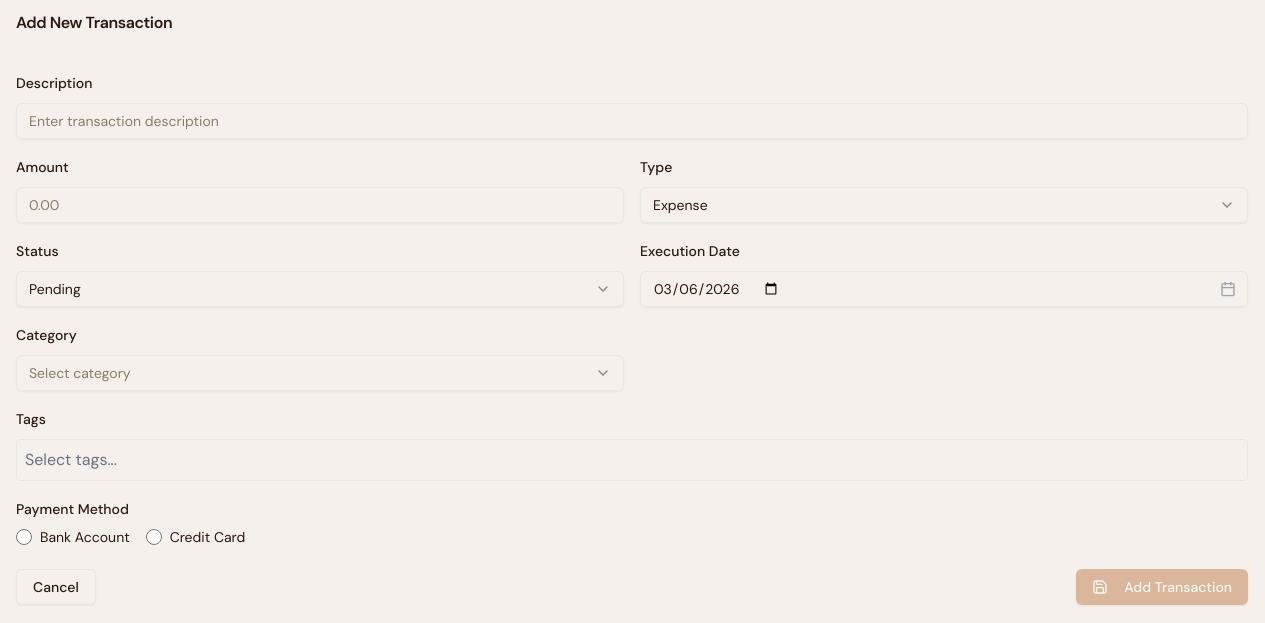
Scenario: AddTransactionForm › Loading States › should disable save button during submission
This screenshot has width=1265, height=623.
Fill in required fields
Type "Test Transaction" into the field labelled "Description" at (632, 121), box top-left (16, 103), bottom-right (1248, 139)
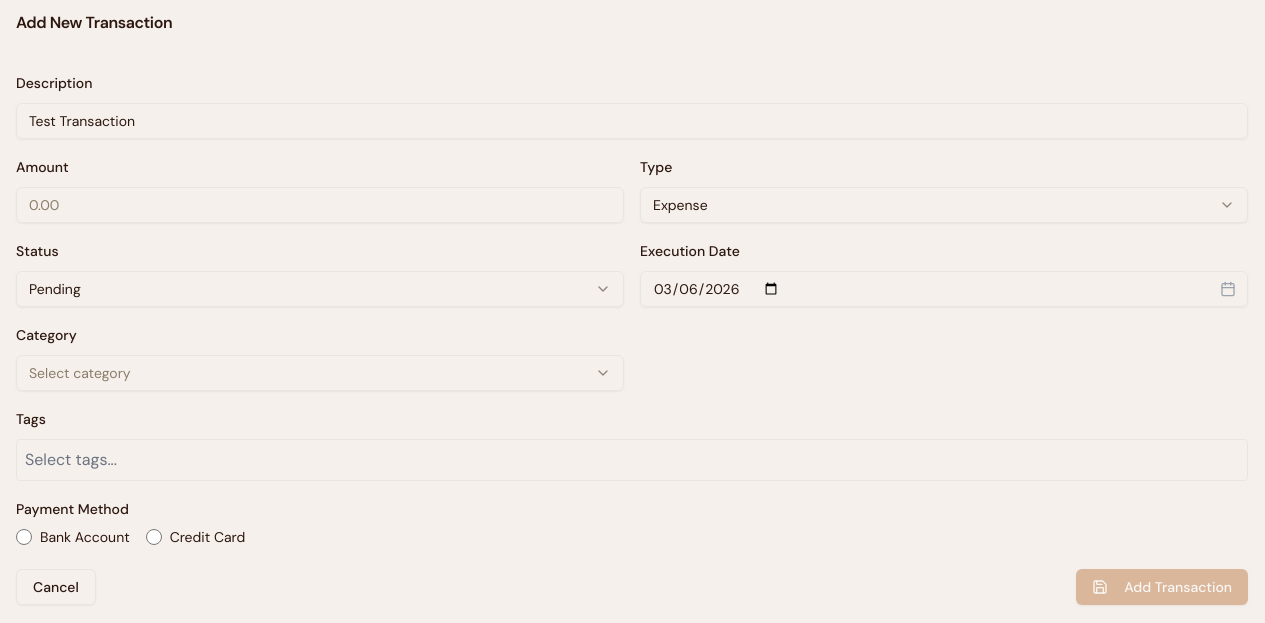
Type "100.50" into the number field labelled "Amount" at (320, 205), box top-left (16, 187), bottom-right (624, 223)
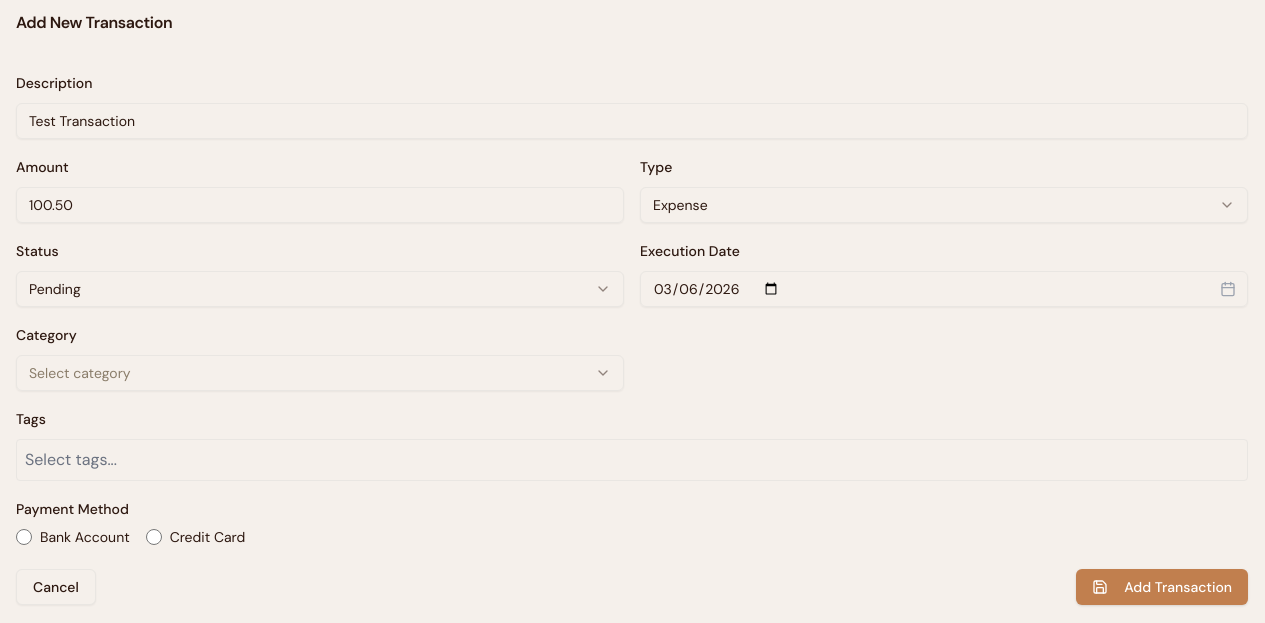
Submit form
Click the button "Add Transaction" at (1162, 587), box top-left (1076, 569), bottom-right (1248, 605)
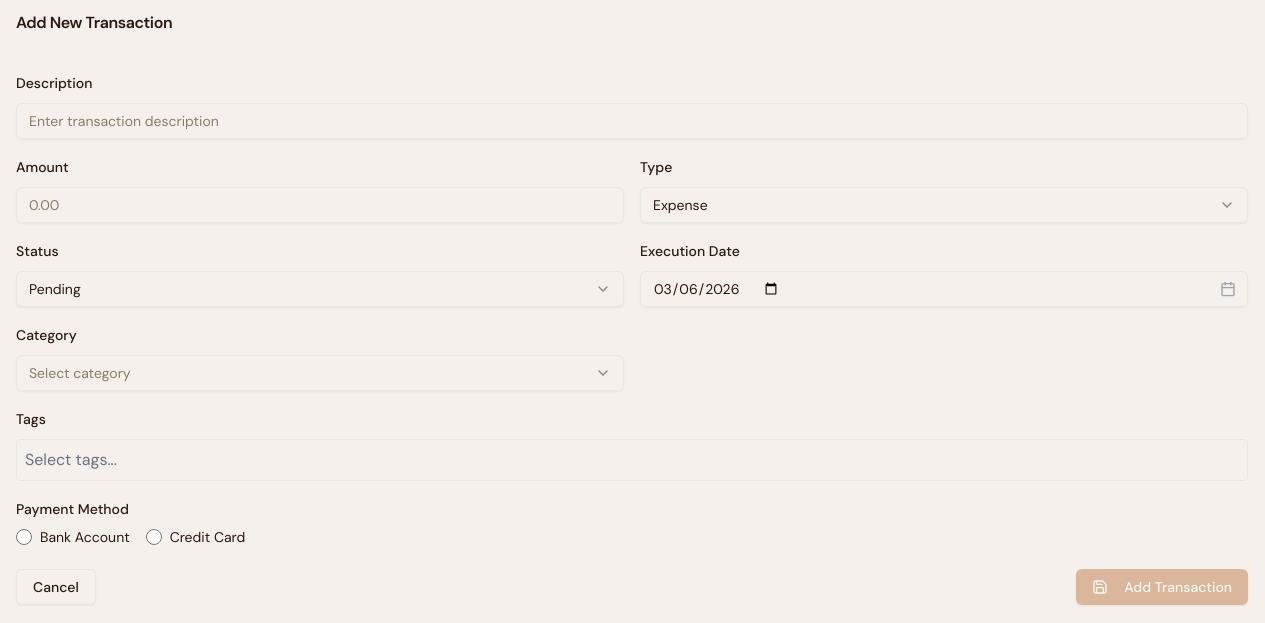
Expected: the button "Add Transaction" is disabled, top-left (1076, 569), bottom-right (1248, 605)
